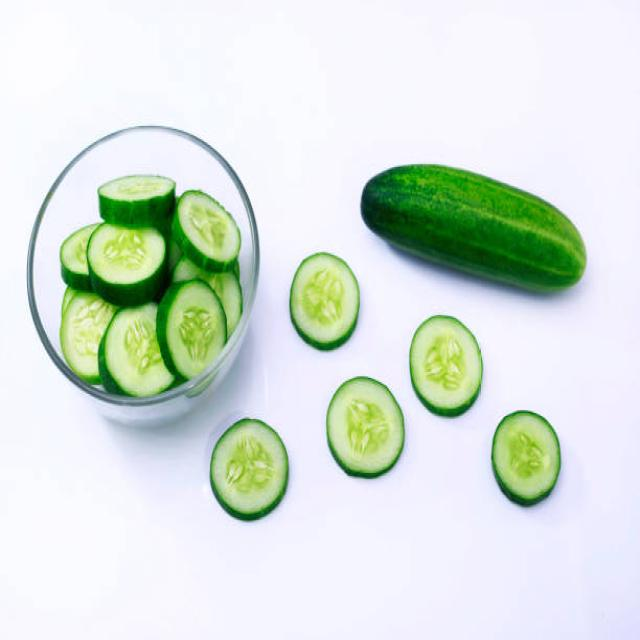cucumber: (361, 163, 586, 295)
